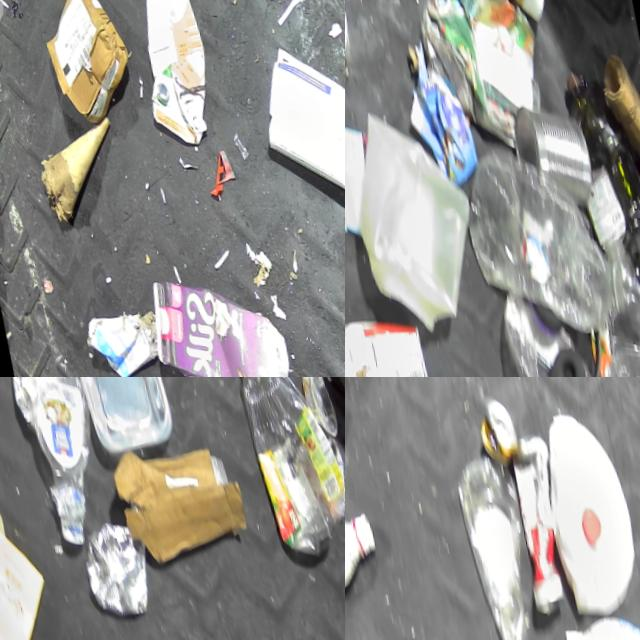can: (501, 93, 593, 205), (69, 515, 149, 618), (467, 390, 520, 468), (0, 377, 55, 428)
milk_jug: (345, 97, 484, 336), (523, 398, 640, 619)
non_white_jug: (135, 267, 291, 377), (122, 0, 217, 145)
plastic_bottle: (446, 132, 627, 342), (225, 377, 345, 559), (443, 446, 548, 640), (15, 377, 107, 545)
